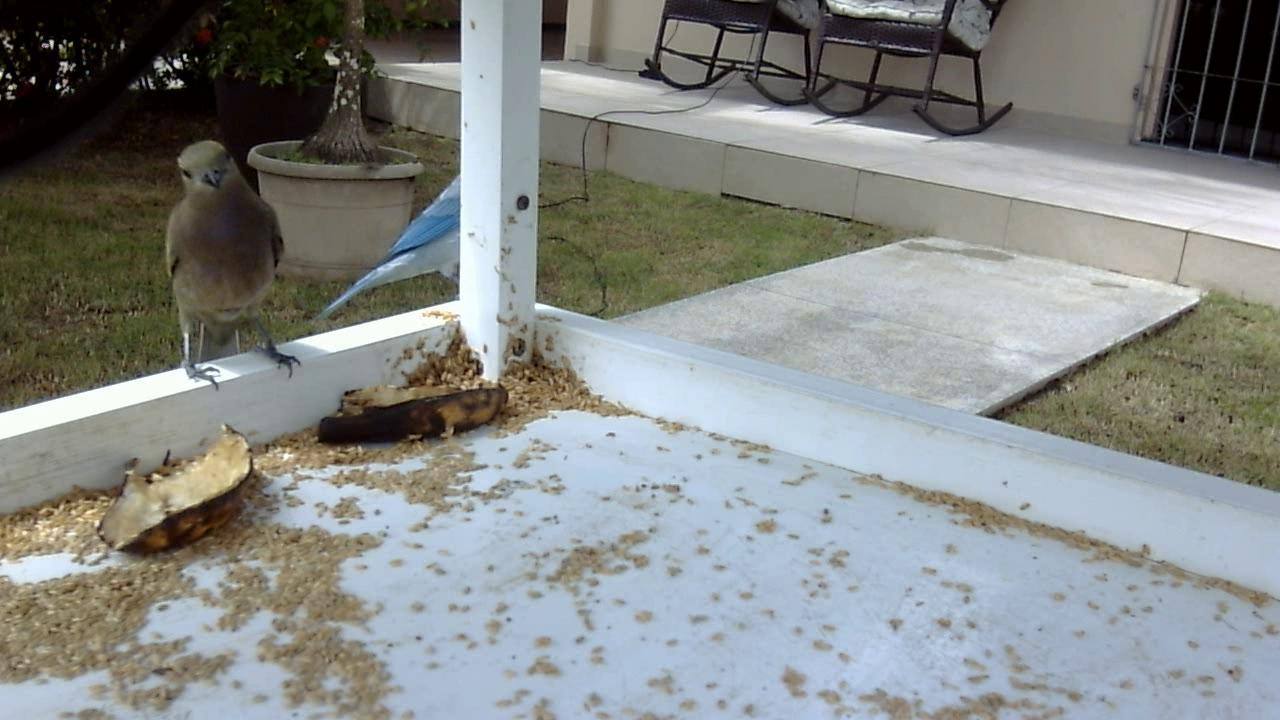sanhaco_da_amazonia: (313, 165, 461, 329)
sanhaco_do_coqueiro: (157, 132, 304, 395)
